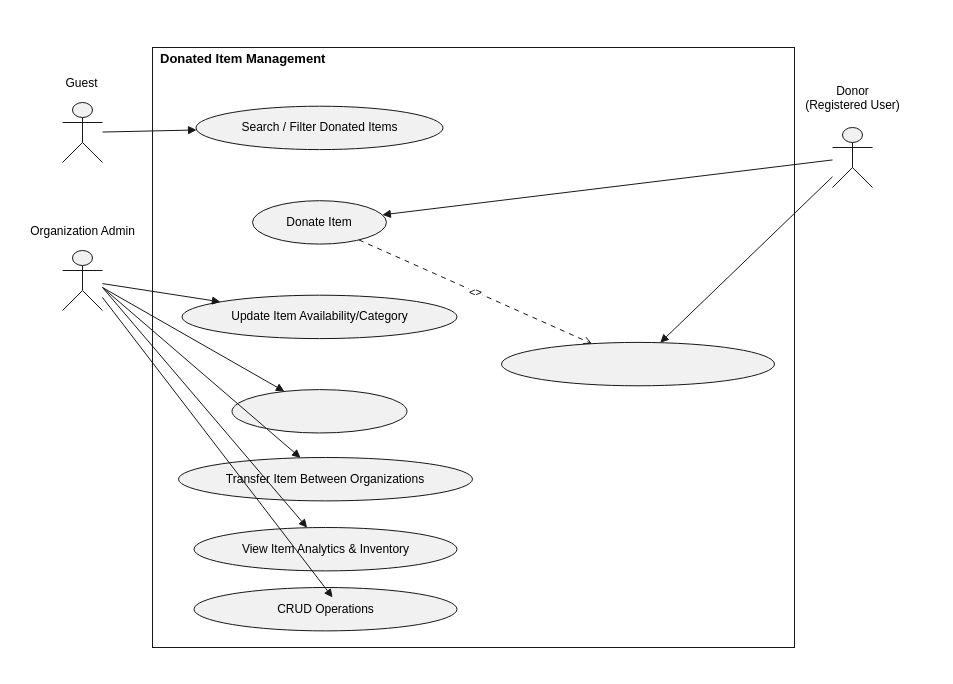
The diagram is 953 pixels wide and 684 high, and some of its shapes have lost their labels. Here are the shapes that lost their labels. From the top down, the box of each, then its label:
(500, 341, 774, 386): Upload Item Images/Attachments
(231, 389, 407, 433): Bulk Update Items
